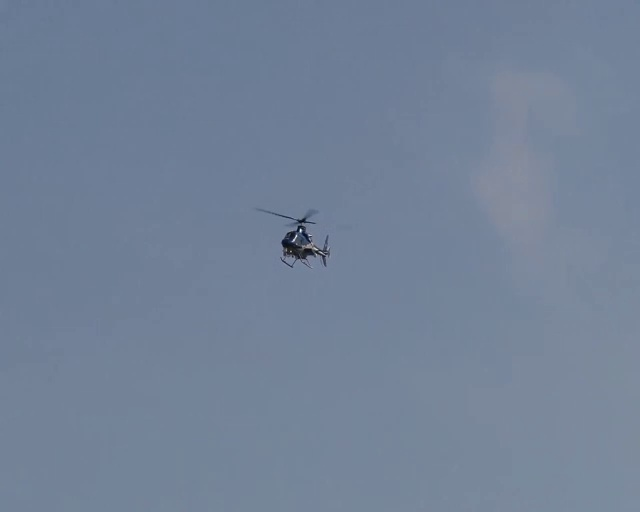HELICOPTER: (253, 206, 332, 269)
